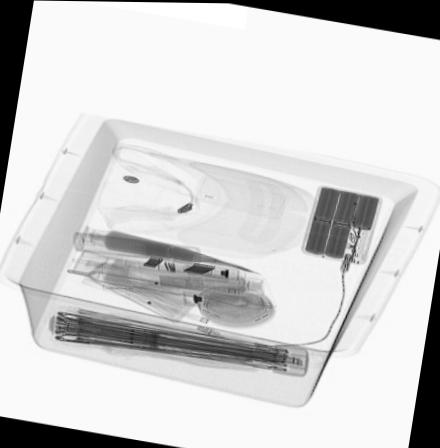Powerbank: (300, 185, 385, 264)
